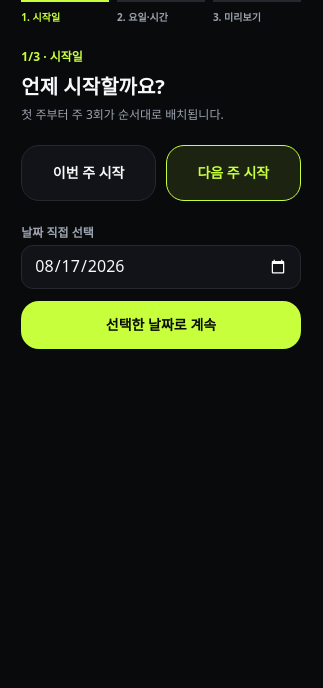
ProgramScheduleSetup › 연속 요일도 미리보기로 진행한다 (사용자 확정 2026-08-12)
Click the button "다음 주 시작": [233, 172] box top-left (166, 144), bottom-right (301, 200)
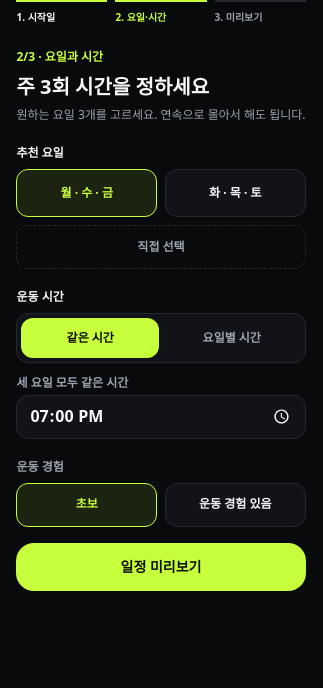
Click the button "직접 선택": [161, 246] box top-left (16, 224), bottom-right (306, 268)
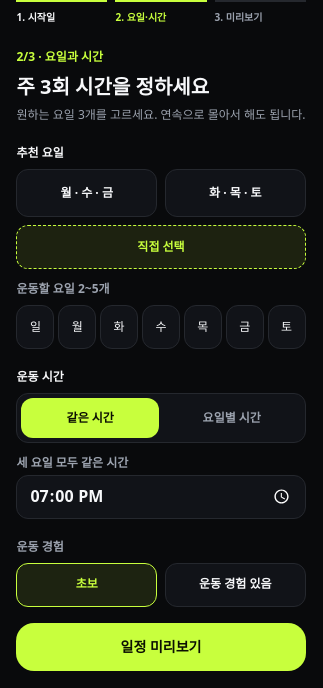
Click the checkbox named "월요일": [77, 326] box top-left (58, 304), bottom-right (96, 348)
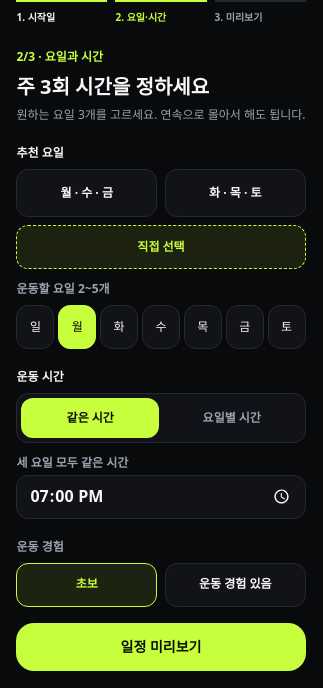
Click the checkbox named "화요일": [119, 326] box top-left (100, 304), bottom-right (138, 348)
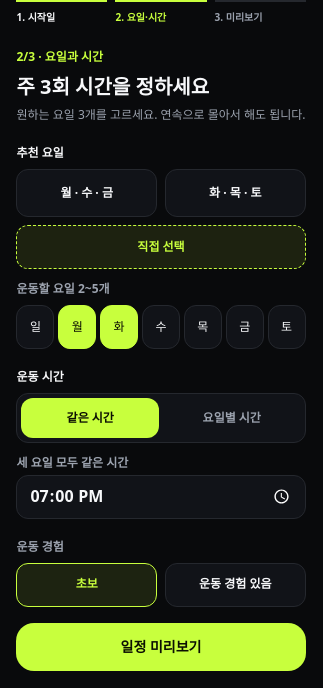
Click the checkbox named "수요일": [161, 326] box top-left (142, 304), bottom-right (180, 348)
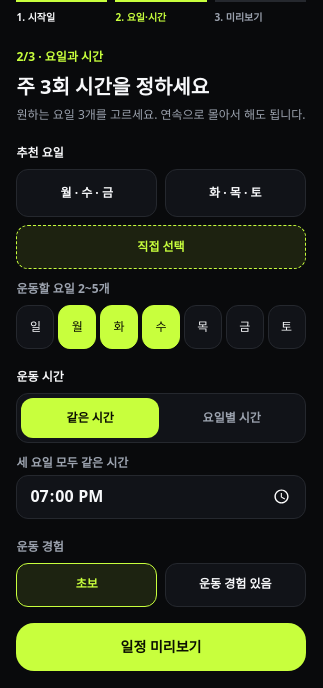
Click the button "일정 미리보기": [161, 646] box top-left (16, 622), bottom-right (306, 670)
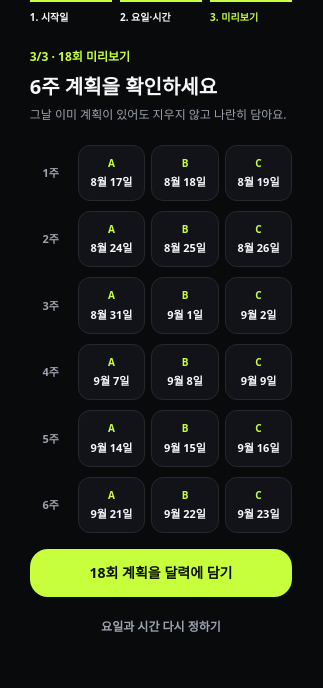
Now the text "3/3 · 18회 미리보기" is shown, box top-left (30, 48), bottom-right (130, 64)
